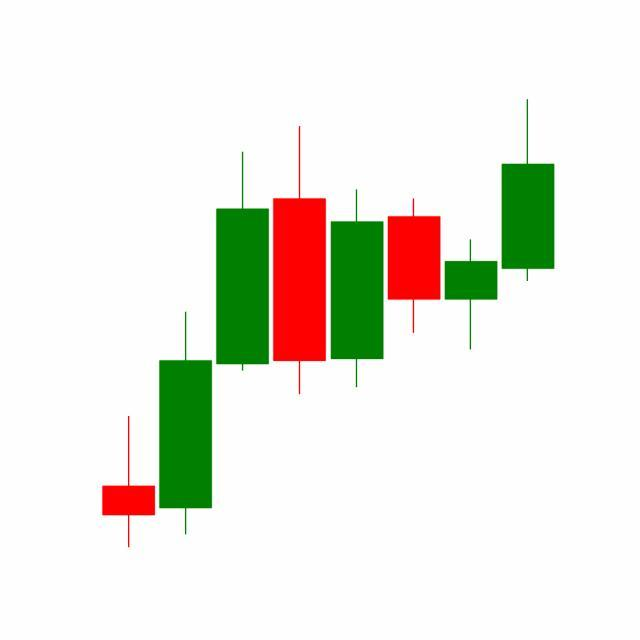Hikkake Pattern: (270, 99, 555, 399)
